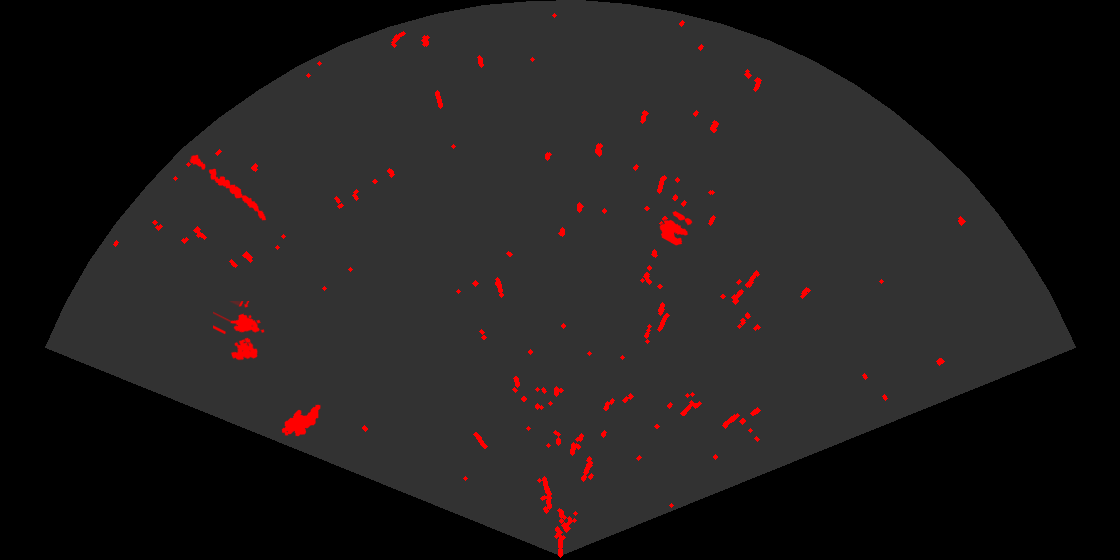AUV: (280, 403, 322, 438)
ball: (658, 209, 694, 247)
cage: (213, 301, 266, 362)
chain: (188, 153, 268, 222)
